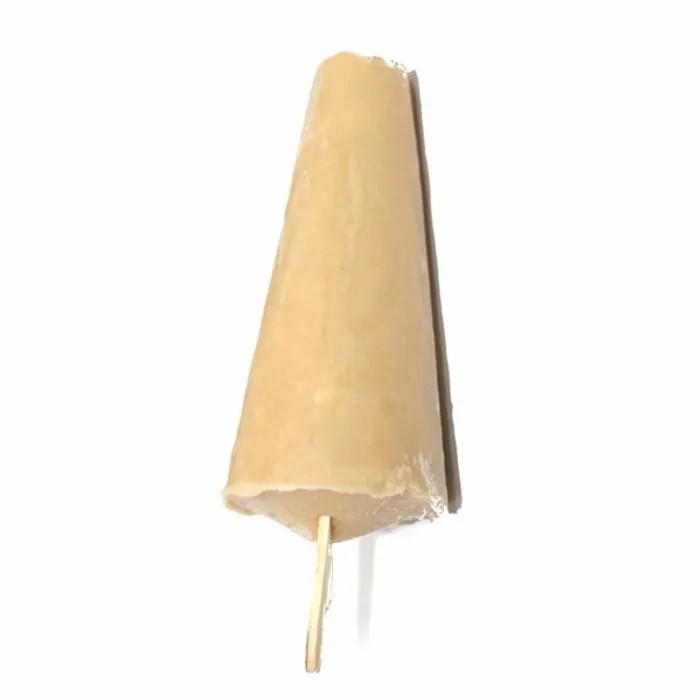Kulfi: (226, 54, 465, 546)
